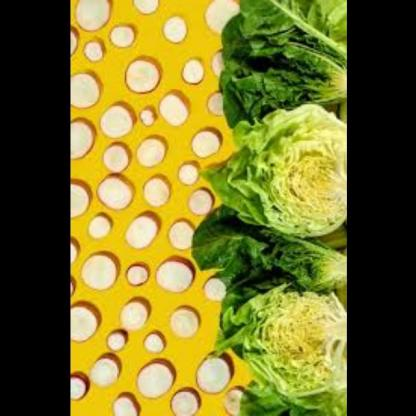salad: (204, 276, 346, 416), (202, 102, 345, 240), (216, 0, 346, 119), (204, 234, 346, 301)
